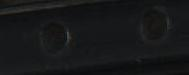joints: (137, 3, 174, 43), (35, 19, 71, 55)
